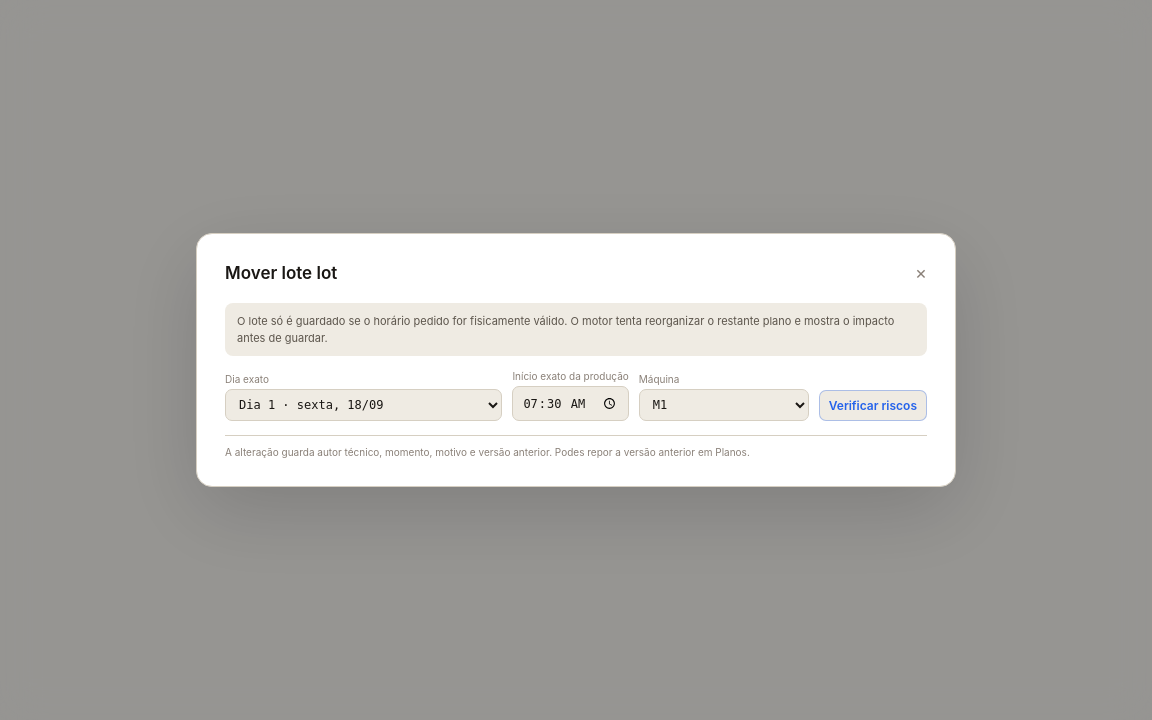
shows a partial complete-plan improvement without creating another apply block
The image size is (1152, 720).
Click the button "Verificar riscos". click: (873, 405)
box: x1=819 y1=390 x2=927 y2=421
(page scrolled)
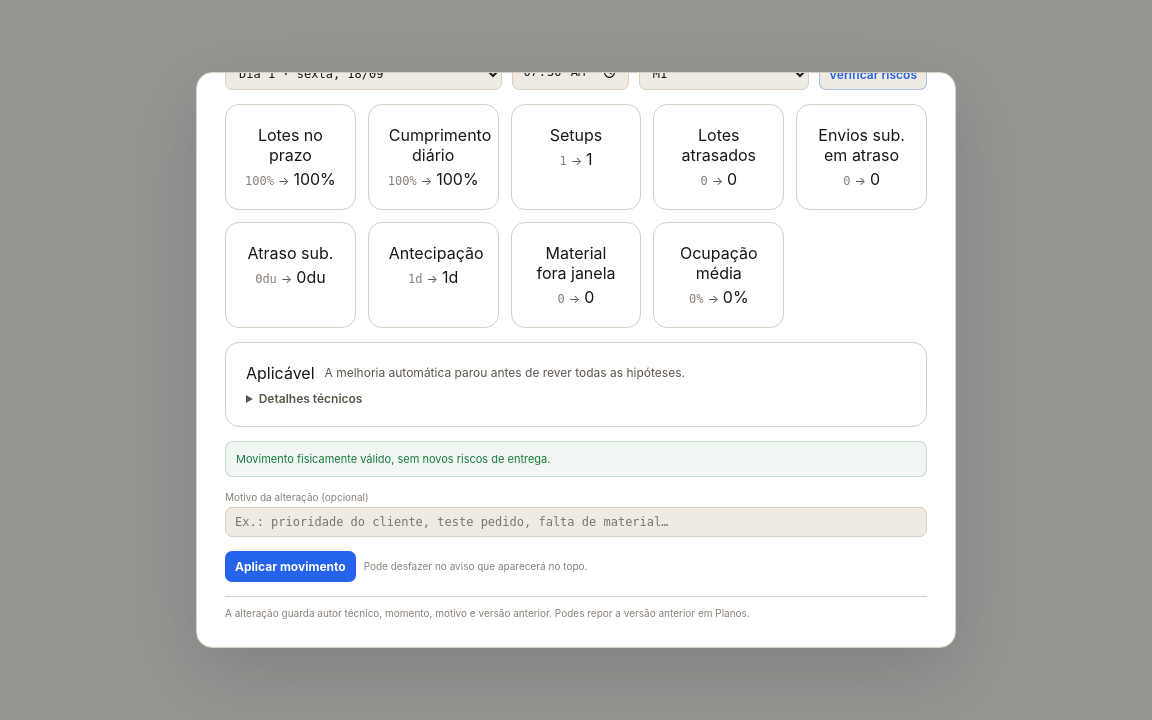
Expected: the button "Aplicar movimento" is enabled, x1=225 y1=551 x2=356 y2=582
Expected: the text "A melhoria automática parou antes de rever todas as hipóteses" is shown, x1=324 y1=365 x2=685 y2=380
